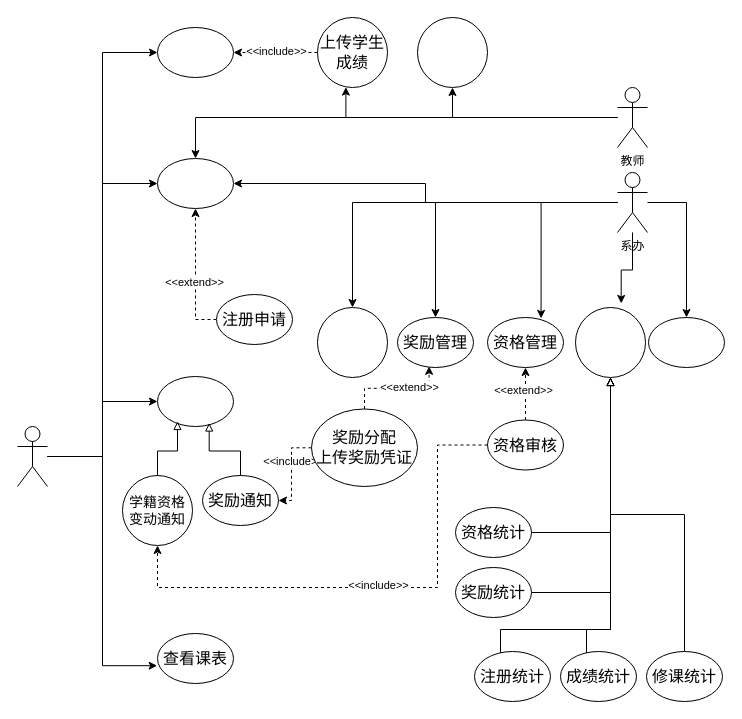
Image size: 742x719. Some labels were removed from this diagram. The centre of each missing label's shape, as x and y in pixels:
上传学生名单: point (352, 342)
学生: point (32, 456)
安排课表: point (686, 342)
查看成绩: point (195, 52)
查看教学安排: point (452, 52)
查看数据统计: point (610, 342)
消息通知: point (195, 401)
登录: point (195, 183)
